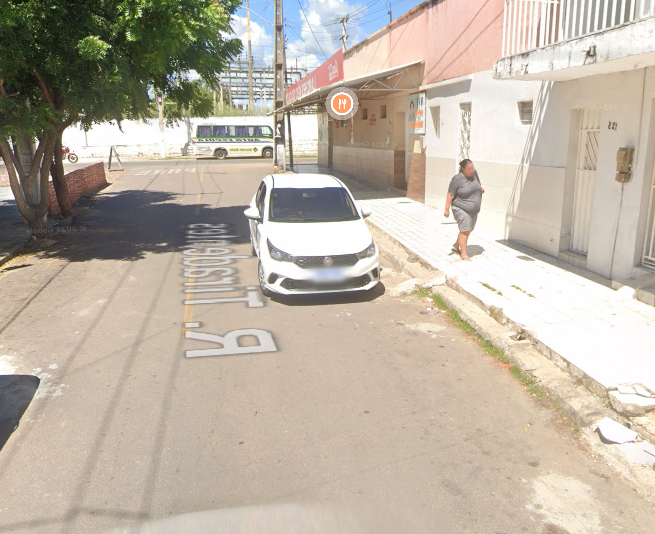car: (237, 161, 393, 318)
